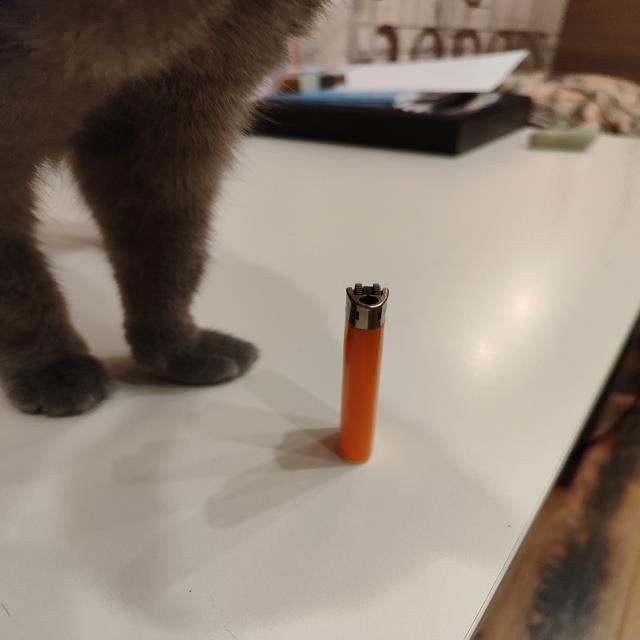lighter: (336, 282, 389, 463)
